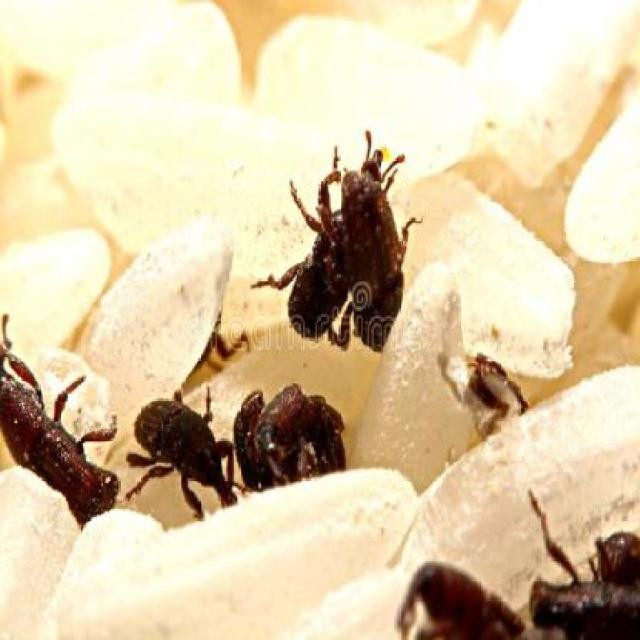rice-bug: (284, 130, 419, 341), (0, 317, 122, 532), (132, 358, 232, 527), (529, 487, 635, 640), (240, 374, 362, 504), (396, 546, 522, 640), (467, 357, 538, 425)
